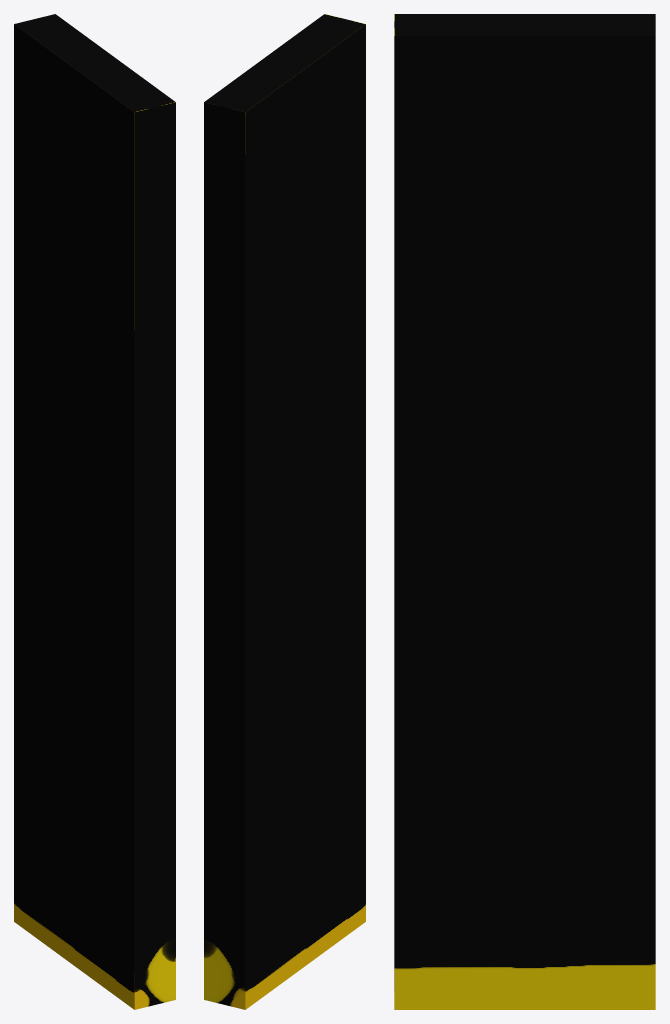
Rendered from Puerta.fbx.
3 renders of one model, left to right at view 1: azimuth 30°, elevation 25°; view 2: azimuth 150°, elevation 25°; view 3: azimuth 270°, elevation 25°, orthographic. The views are drawn at different scales.
Parts seen in each view (by area): view 1: Plane; view 2: Plane; view 3: Plane.
Boxes of the visible parts, left/top/right/bottom form: Plane: left=14, top=14, right=175, bottom=1009; Plane: left=204, top=14, right=365, bottom=1009; Plane: left=394, top=14, right=655, bottom=1009.
Size of the model in its own units: 39.65 by 822 by 200.
